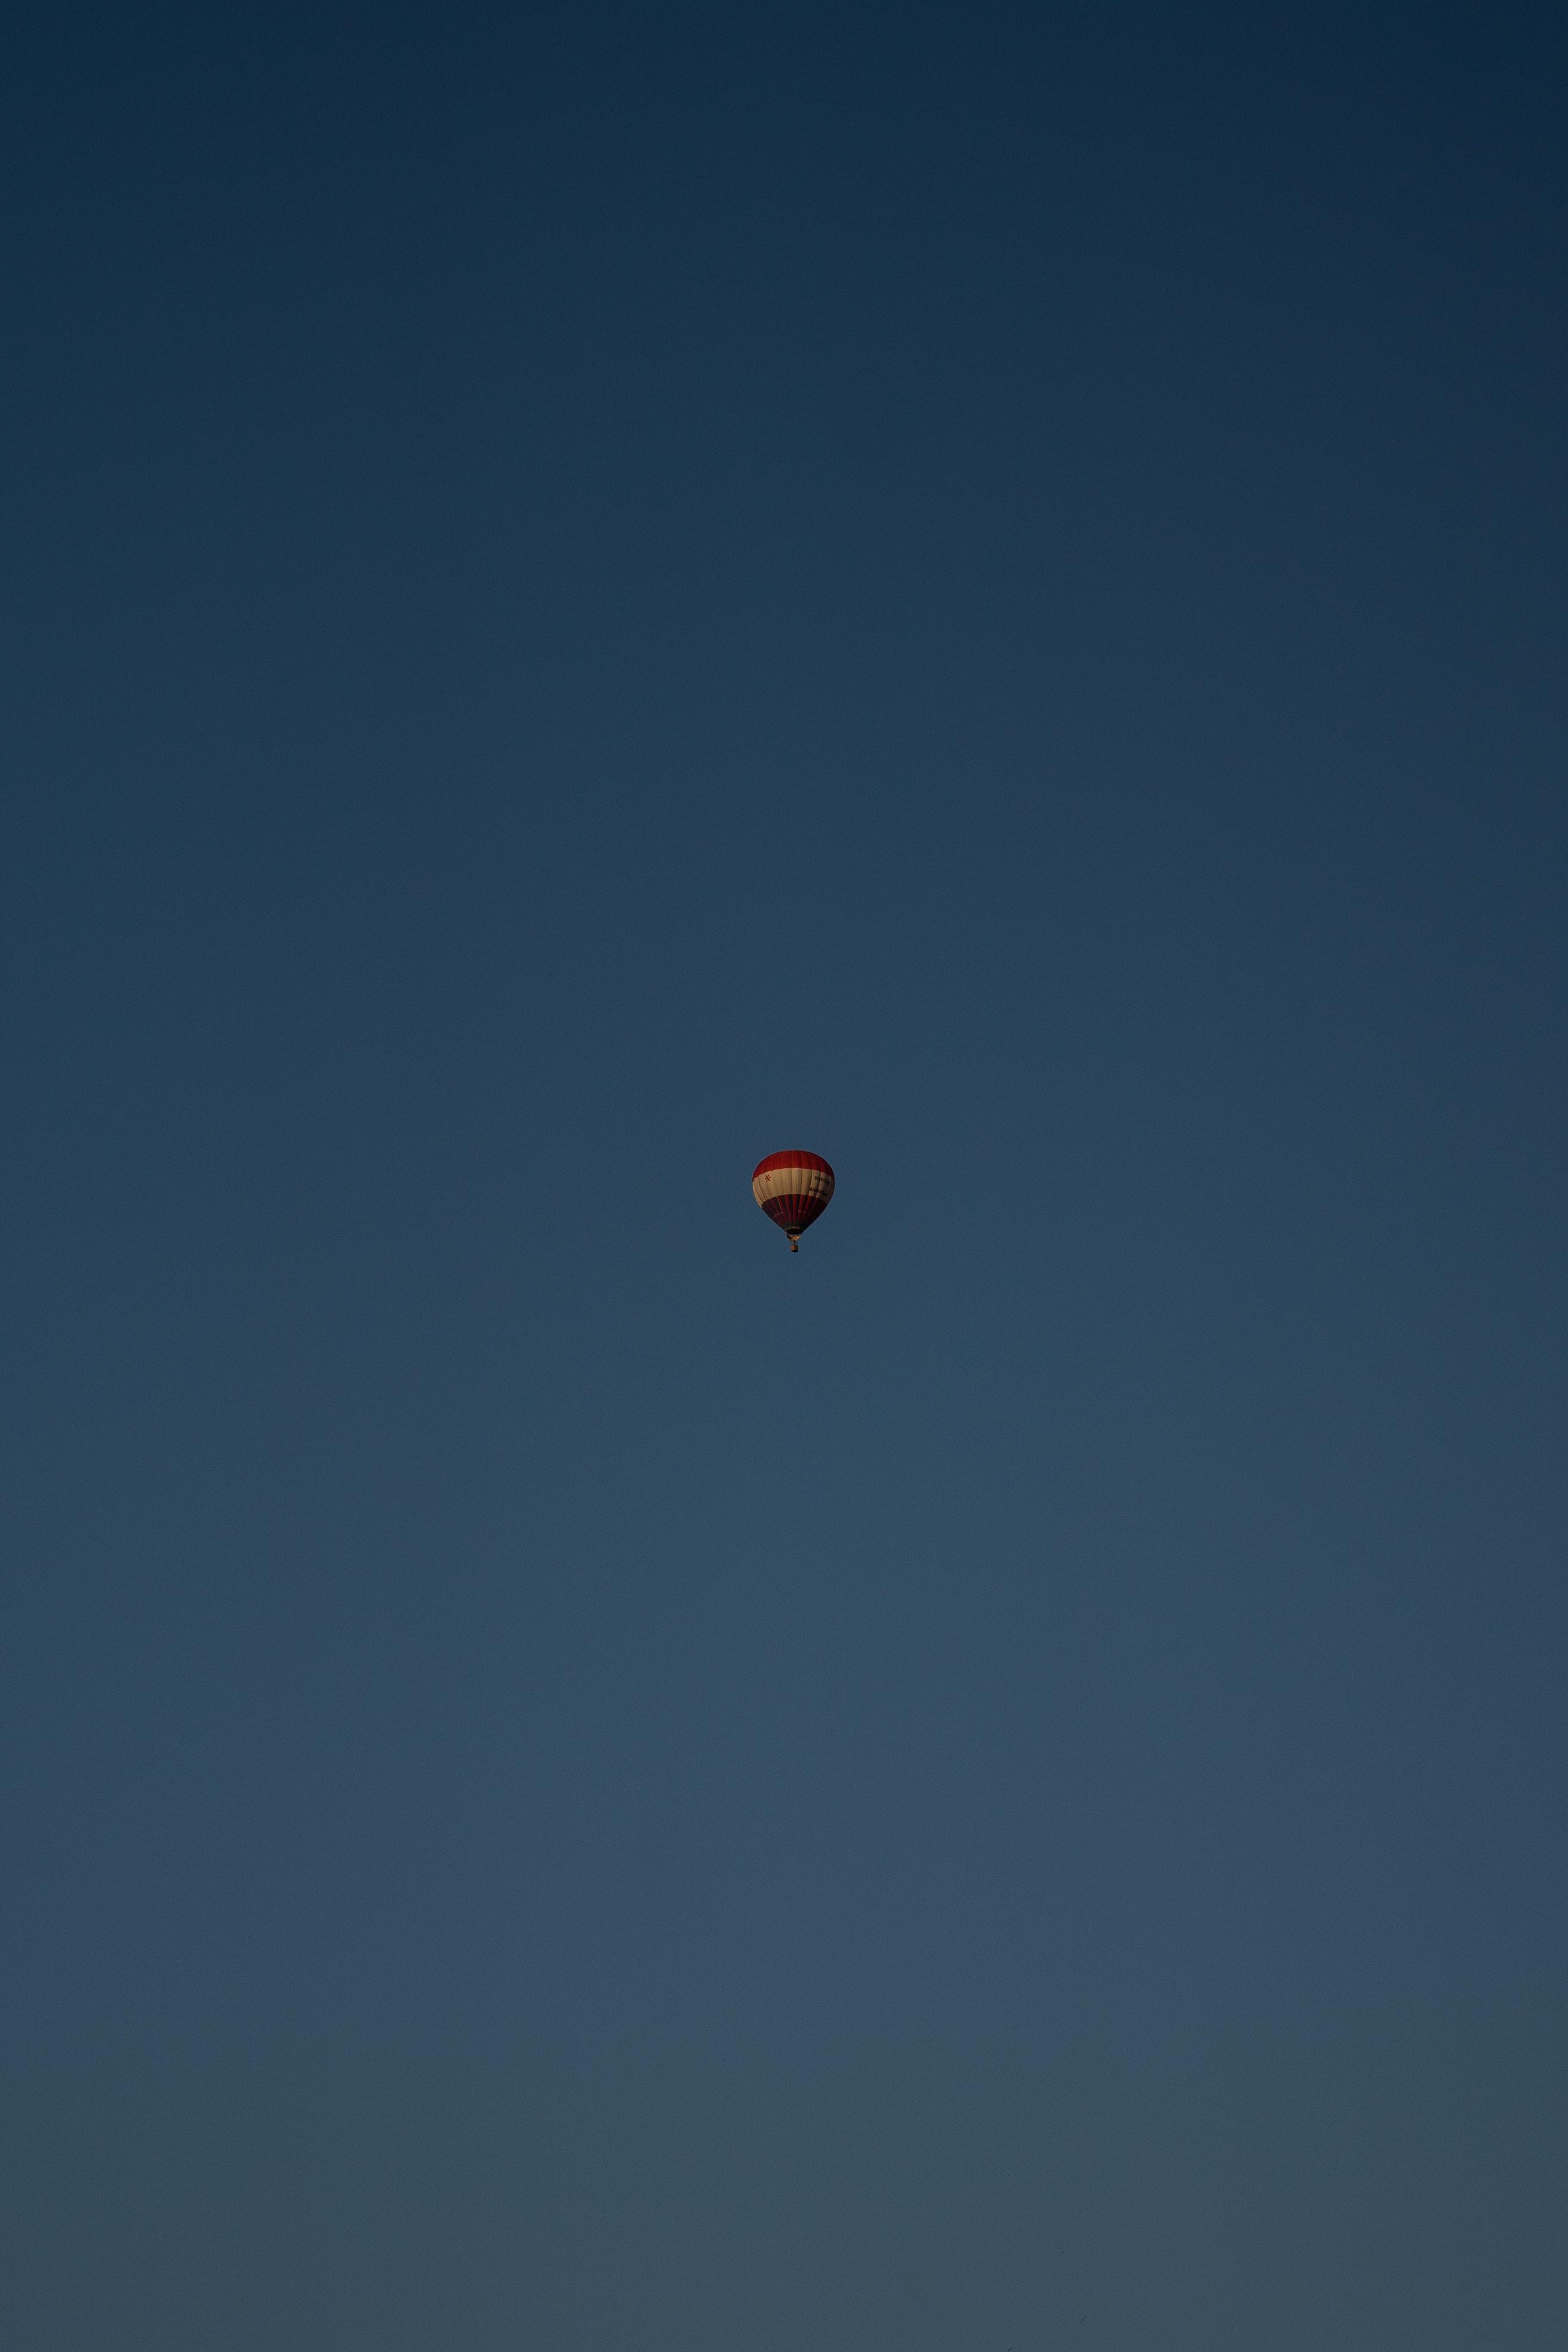hot air ballon: (752, 1150, 836, 1253)
